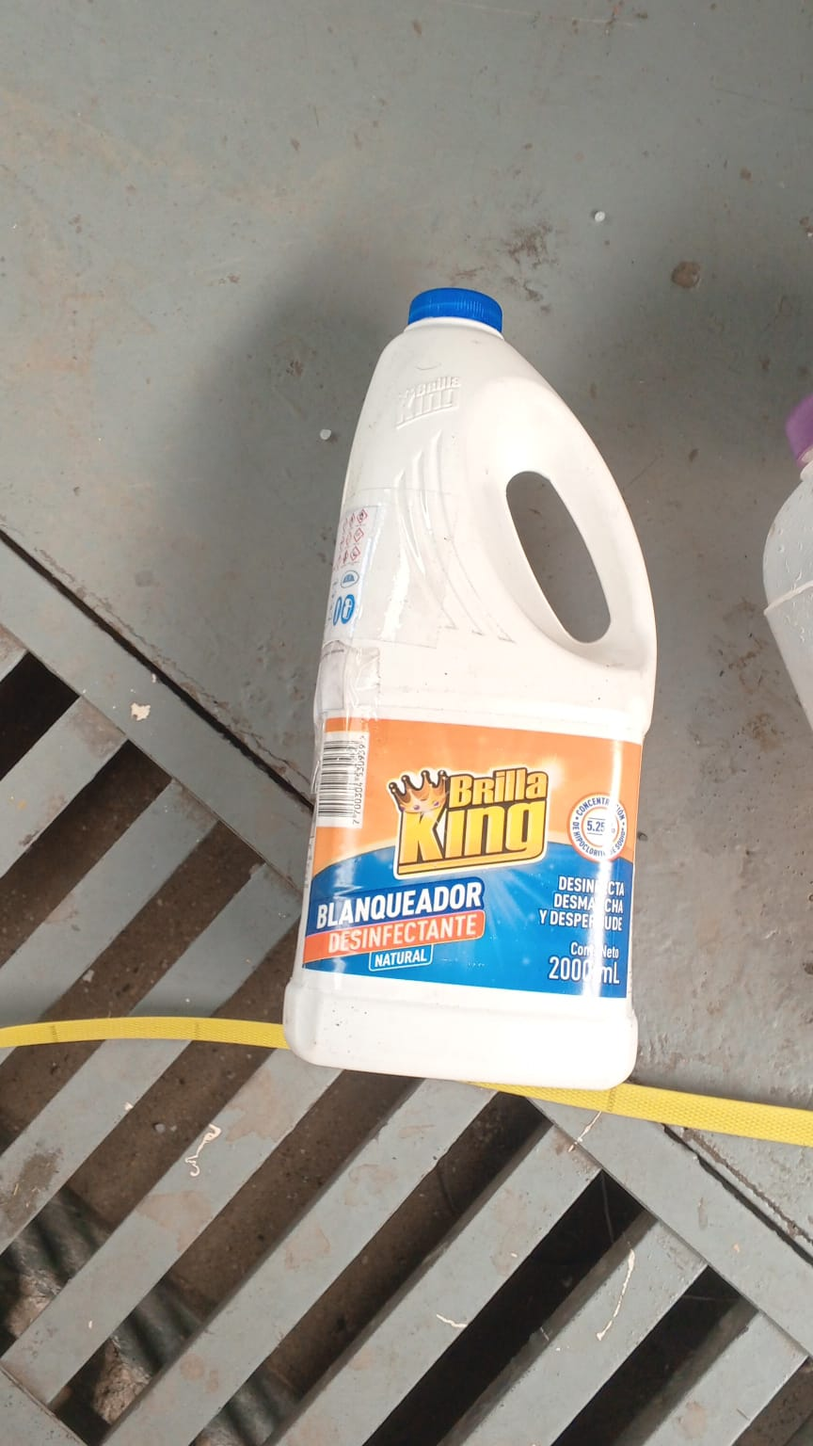Plastico: (282, 286, 657, 1091)
